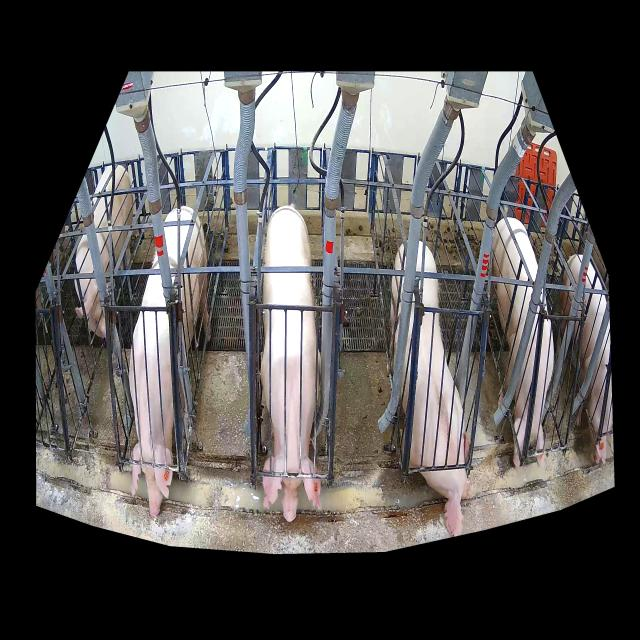pig: (129, 207, 212, 516), (389, 240, 473, 535), (261, 207, 322, 522), (489, 218, 554, 467), (558, 252, 614, 463), (74, 162, 133, 339)
